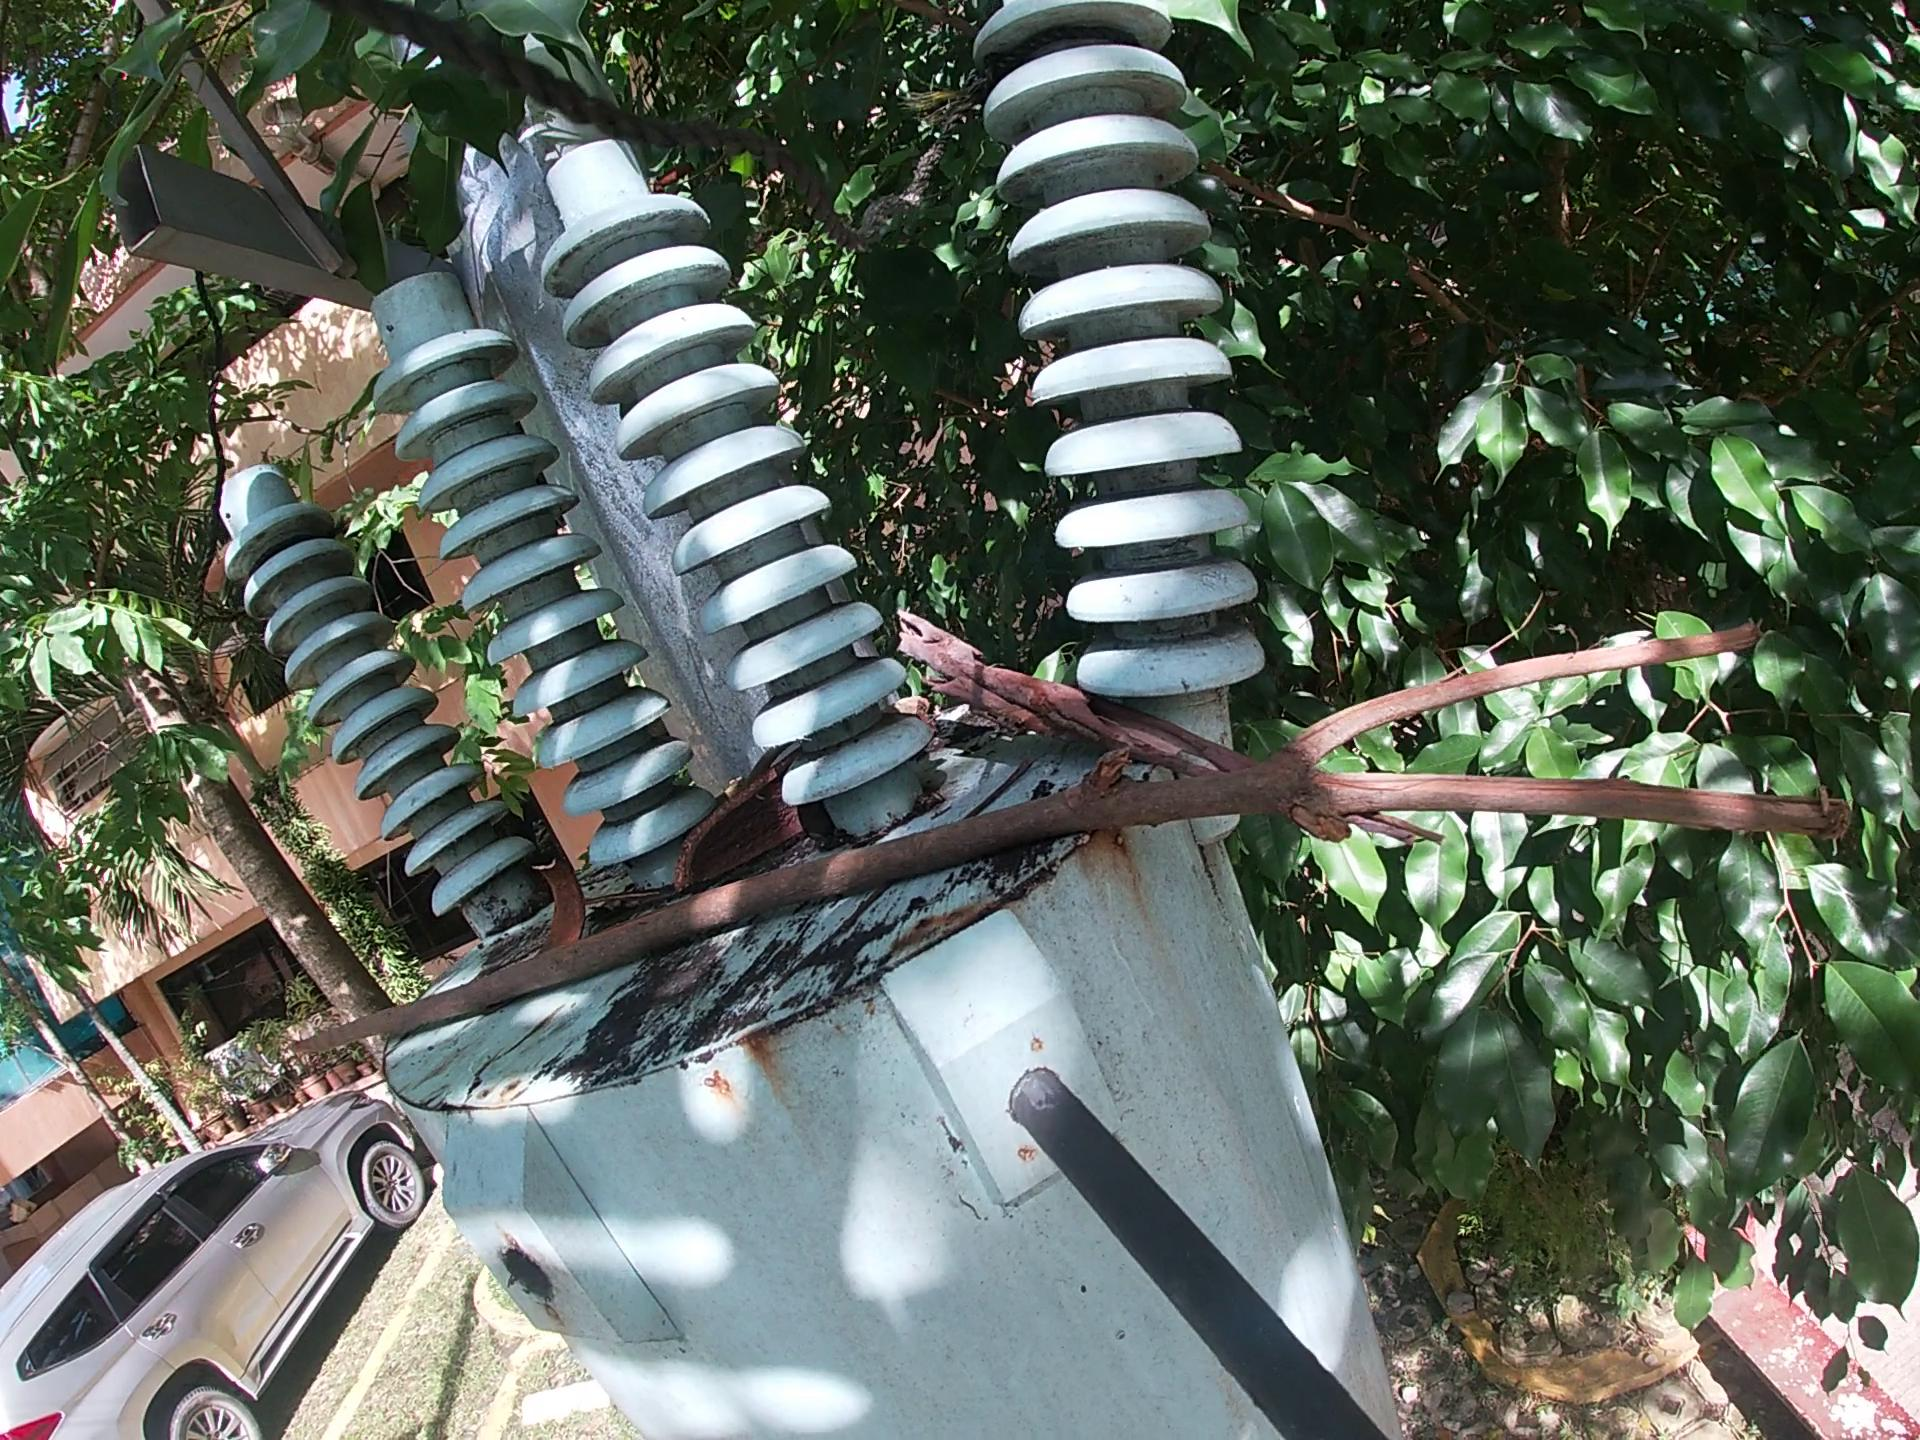mahogany fruit: (665, 746, 819, 908), (526, 856, 597, 959)
tree branch: (280, 608, 1866, 1082), (889, 599, 1457, 853)
